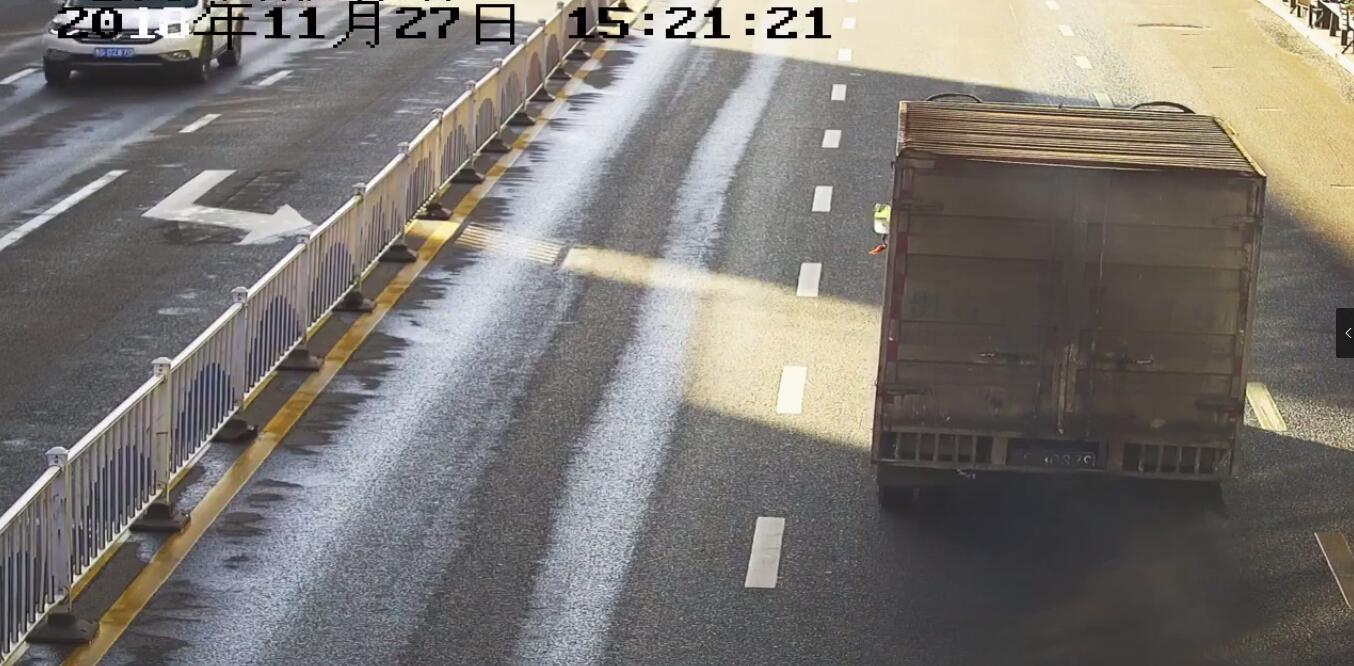yanwu: (961, 472, 1240, 625)
